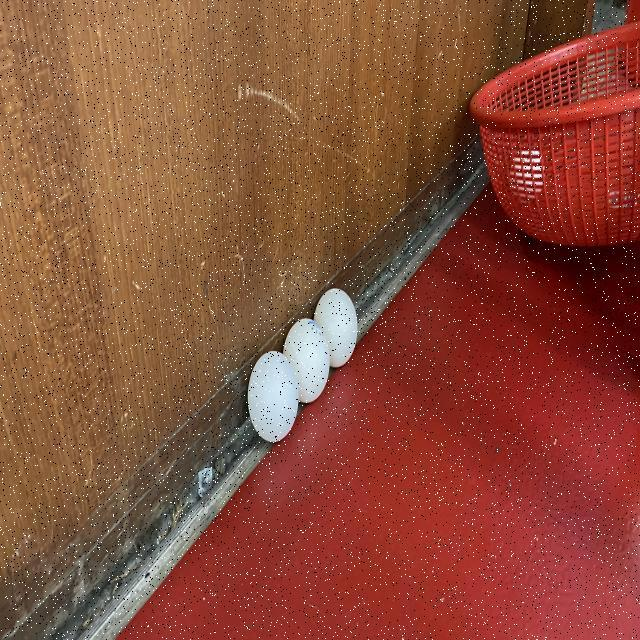ping-pong-ball: (247, 348, 300, 445), (282, 317, 330, 405), (312, 286, 358, 369)
